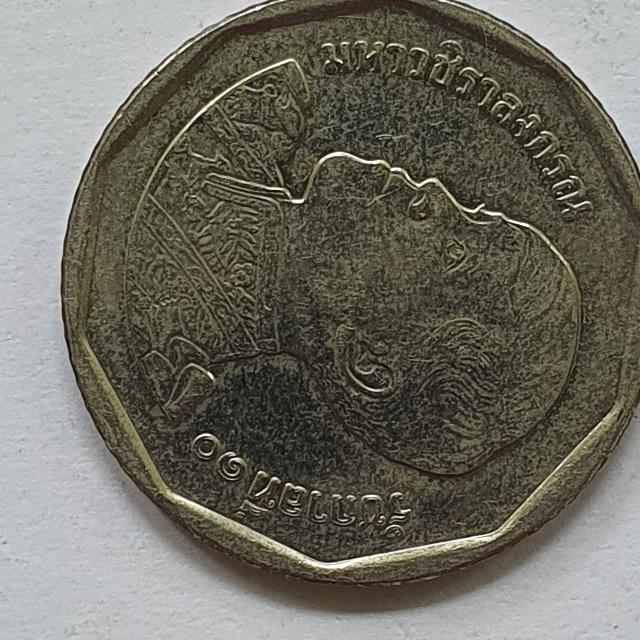5 Bath: (54, 1, 640, 597)
